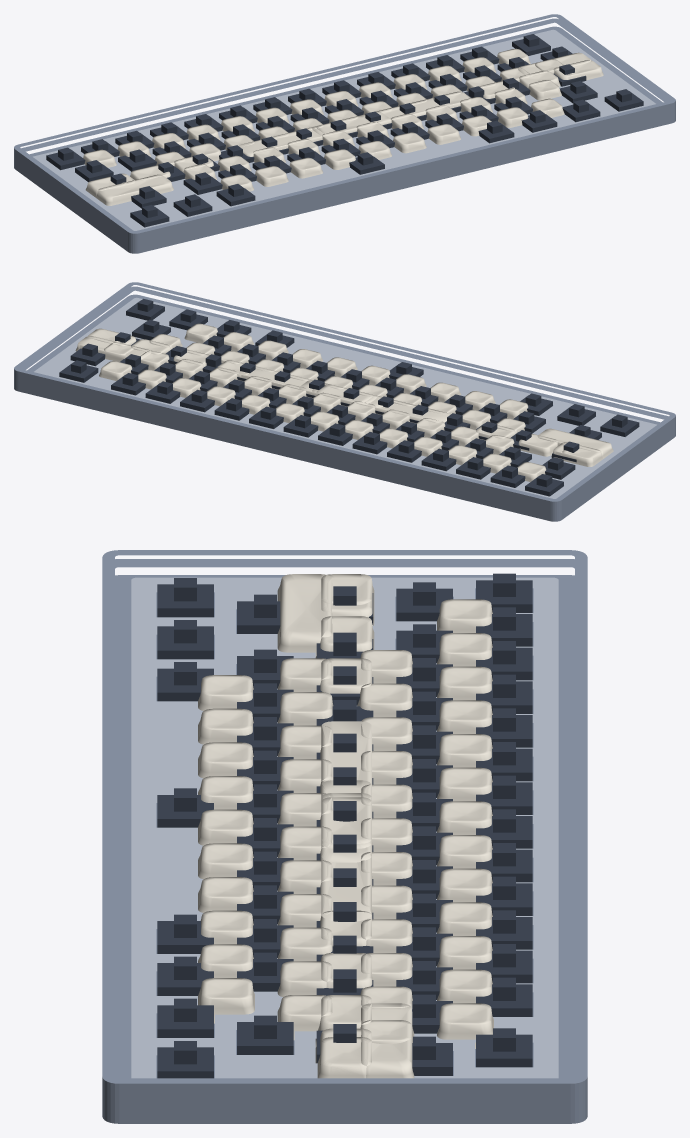
File: wooting-60he.glb
The picture shows the model from 3 angles, top to bottom: view 1: azimuth 30°, elevation 25°; view 2: azimuth 150°, elevation 25°; view 3: azimuth 270°, elevation 25°; orthographic projection. The views are drawn at different scales.
Parts seen in each view (by area): view 1: switches/switches, bottomCase/case-bottom, keycaps/keycaps-0, plate/plate-placeholder, topCase/case-top, keycaps/keycaps-6, keycaps/keycaps-4, keycaps/keycaps-7, keycaps/keycaps-2; view 2: switches/switches, bottomCase/case-bottom, keycaps/keycaps-0, plate/plate-placeholder, topCase/case-top, keycaps/keycaps-6, keycaps/keycaps-7, keycaps/keycaps-4, keycaps/keycaps-2; view 3: switches/switches, keycaps/keycaps-0, bottomCase/case-bottom, plate/plate-placeholder, keycaps/keycaps-6, topCase/case-top, keycaps/keycaps-4, keycaps/keycaps-7, keycaps/keycaps-2, keycaps/keycaps-5, keycaps/keycaps-3.
Boxes of the visible parts, bbox=[...] form: switches/switches: bbox=[46, 34, 643, 227]; bottomCase/case-bottom: bbox=[14, 14, 675, 253]; keycaps/keycaps-0: bbox=[83, 48, 564, 191]; plate/plate-placeholder: bbox=[33, 29, 655, 230]; topCase/case-top: bbox=[15, 18, 675, 249]; keycaps/keycaps-6: bbox=[87, 60, 603, 197]; keycaps/keycaps-4: bbox=[96, 52, 591, 205]; keycaps/keycaps-7: bbox=[239, 97, 450, 156]; keycaps/keycaps-2: bbox=[85, 60, 601, 197]; switches/switches: bbox=[59, 298, 639, 496]; bottomCase/case-bottom: bbox=[14, 282, 675, 521]; keycaps/keycaps-0: bbox=[99, 323, 546, 481]; plate/plate-placeholder: bbox=[34, 297, 656, 498]; topCase/case-top: bbox=[14, 286, 675, 517]; keycaps/keycaps-6: bbox=[92, 336, 603, 465]; keycaps/keycaps-7: bbox=[239, 366, 449, 423]; keycaps/keycaps-4: bbox=[75, 336, 613, 458]; keycaps/keycaps-2: bbox=[88, 328, 602, 466]; switches/switches: bbox=[157, 573, 532, 1078]; keycaps/keycaps-0: bbox=[198, 599, 493, 1048]; bottomCase/case-bottom: bbox=[102, 550, 587, 1123]; plate/plate-placeholder: bbox=[131, 577, 558, 1078]; keycaps/keycaps-6: bbox=[315, 579, 374, 1078]; topCase/case-top: bbox=[103, 559, 587, 1115]; keycaps/keycaps-4: bbox=[277, 574, 414, 1078]; keycaps/keycaps-7: bbox=[320, 721, 373, 921]; keycaps/keycaps-2: bbox=[315, 574, 374, 1078]; keycaps/keycaps-5: bbox=[321, 780, 371, 862]; keycaps/keycaps-3: bbox=[322, 797, 371, 843].
Bounding box in the file's own units: 9895634 × 428836 × 3800670.
